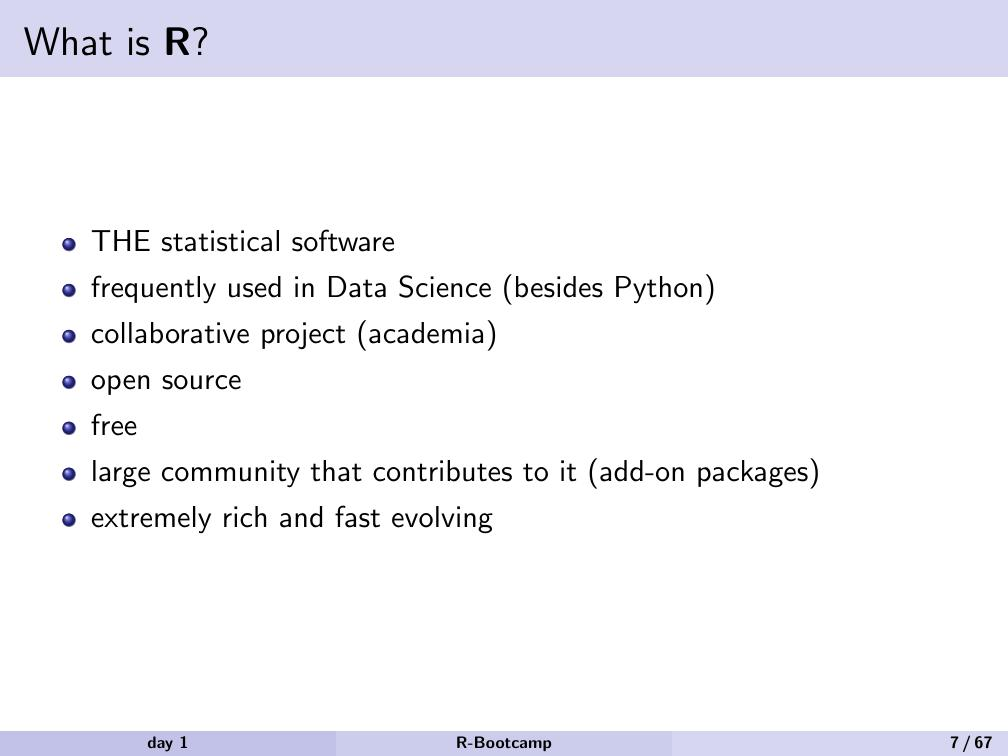Title: (16, 11, 223, 73)
